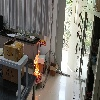fire: (33, 51, 40, 82), (37, 41, 38, 45)
